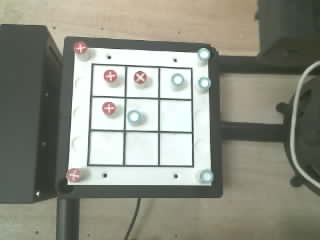blue circle: (127, 110, 141, 124), (200, 169, 213, 183), (171, 73, 184, 86), (198, 48, 210, 59), (198, 77, 210, 88)
board: (67, 42, 213, 185)
cells: (89, 131, 123, 164), (125, 132, 157, 165), (160, 133, 192, 165), (91, 97, 123, 129), (126, 99, 158, 130), (92, 65, 124, 96), (160, 100, 191, 131), (160, 68, 191, 98), (127, 67, 158, 97)
grid: (87, 64, 193, 167)
red cross: (73, 41, 87, 54), (104, 70, 118, 83), (66, 168, 79, 182), (102, 102, 115, 115), (134, 71, 146, 83)
